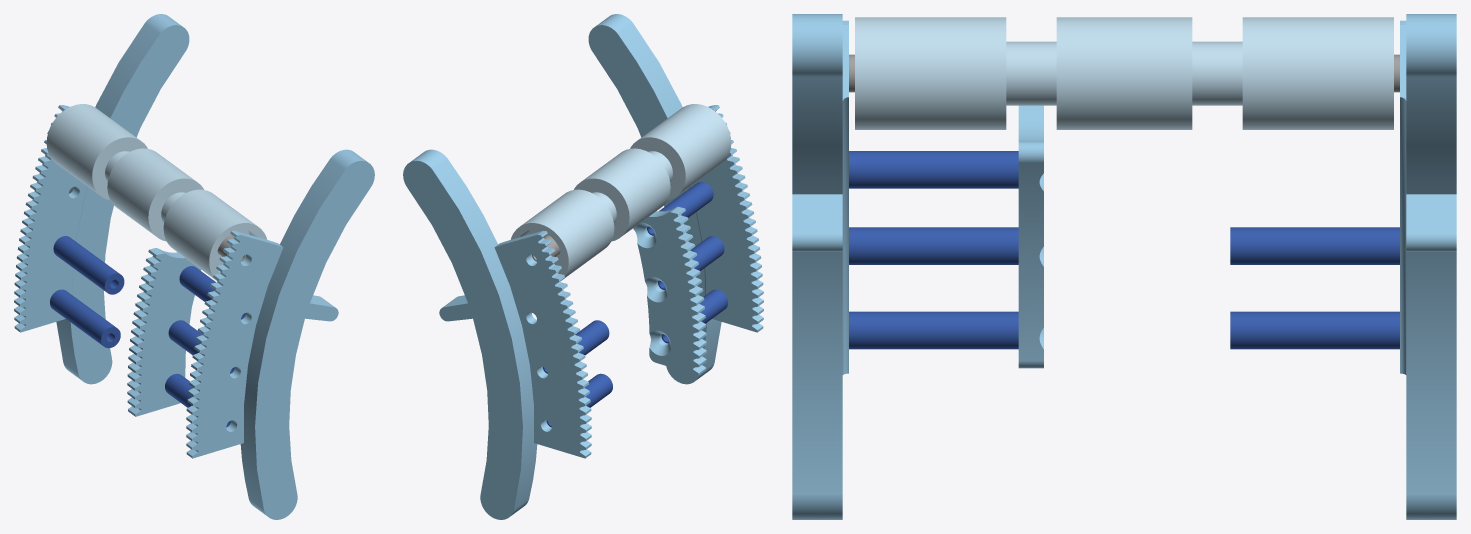
3 renders of one model, left to right at view 1: azimuth 30°, elevation 25°; view 2: azimuth 150°, elevation 25°; view 3: azimuth 270°, elevation 25°, orthographic. The views are drawn at different scales.
Parts seen in each view (by area): view 1: Adjustable Hood Assembly <1>; view 2: Adjustable Hood Assembly <1>; view 3: Adjustable Hood Assembly <1>.
Part boxes in pixels (x1=…): Adjustable Hood Assembly <1>: x1=14, y1=14, x2=374, y2=519; Adjustable Hood Assembly <1>: x1=403, y1=14, x2=763, y2=519; Adjustable Hood Assembly <1>: x1=792, y1=14, x2=1456, y2=519.
Size of the model in its own units: 0.0828 by 0.1565 by 0.1676.
